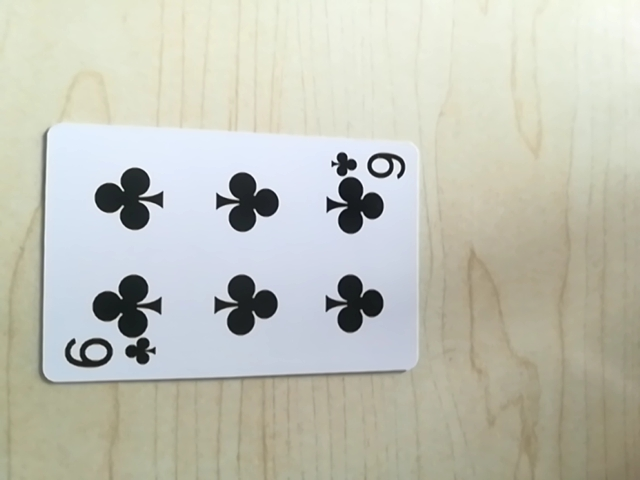mh 6: (58, 331, 161, 376), (328, 148, 408, 184)
